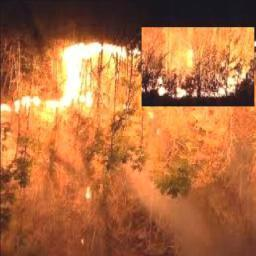Large fire: (0, 41, 256, 256)
